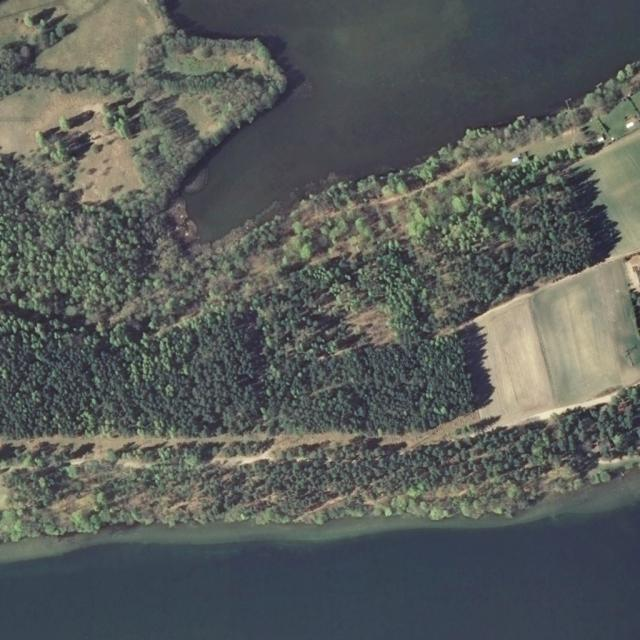greenland: (16, 182, 196, 320)
